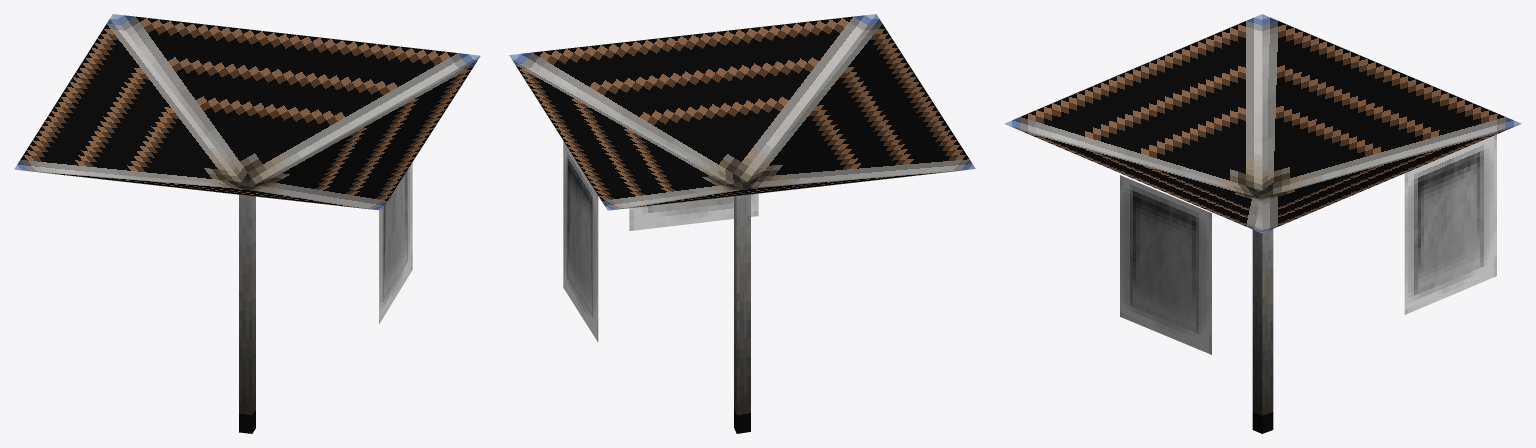
3 views of the same model, side by side, from view 1: azimuth 30°, elevation 25°; view 2: azimuth 150°, elevation 25°; view 3: azimuth 270°, elevation 25° (orthographic). The views are drawn at different scales.
Parts seen in each view (by area): view 1: prim217-washing line; view 2: prim217-washing line; view 3: prim217-washing line.
Boxes of the visible parts, <box> form: prim217-washing line: <box>14,14,480,433</box>; prim217-washing line: <box>509,14,975,433</box>; prim217-washing line: <box>1004,14,1521,433</box>.
Bounding box in the file's own units: 332 × 216 × 331.
Materials: 2 (2 with a texture image).
